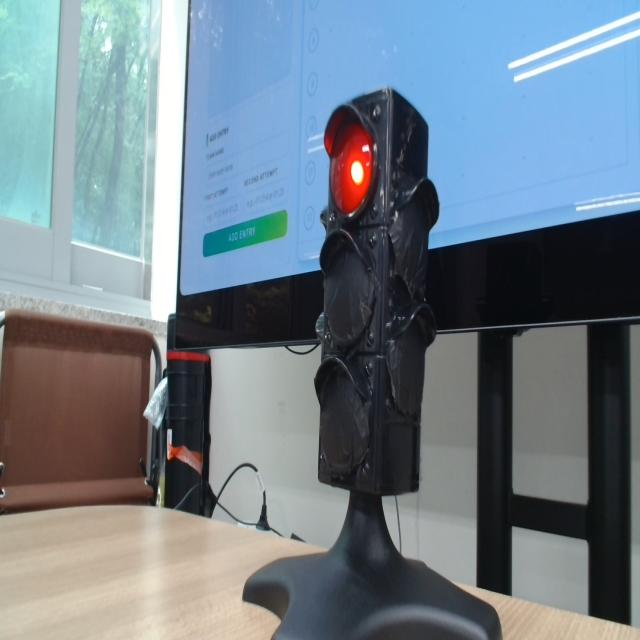red_light: (328, 121, 374, 216)
